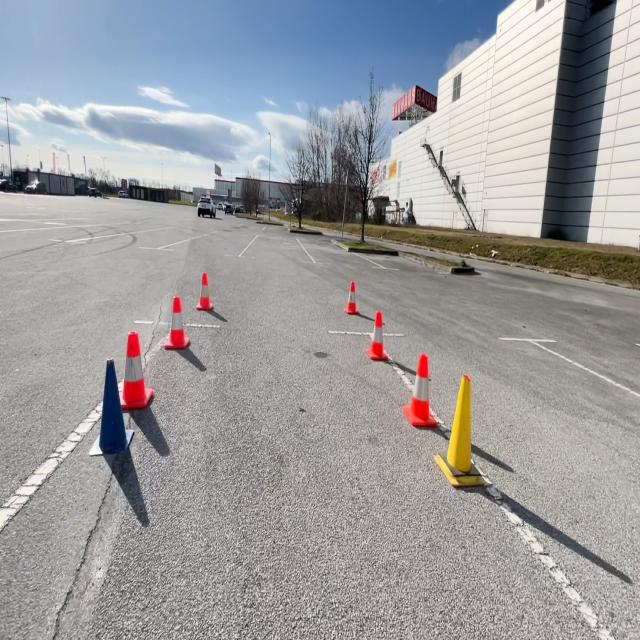blue_cone: (88, 357, 134, 461)
orange_cone: (118, 327, 153, 410), (403, 351, 438, 428), (162, 294, 190, 350), (364, 308, 388, 362), (195, 270, 213, 311), (343, 278, 359, 314)
yellow_cone: (433, 371, 487, 488)
